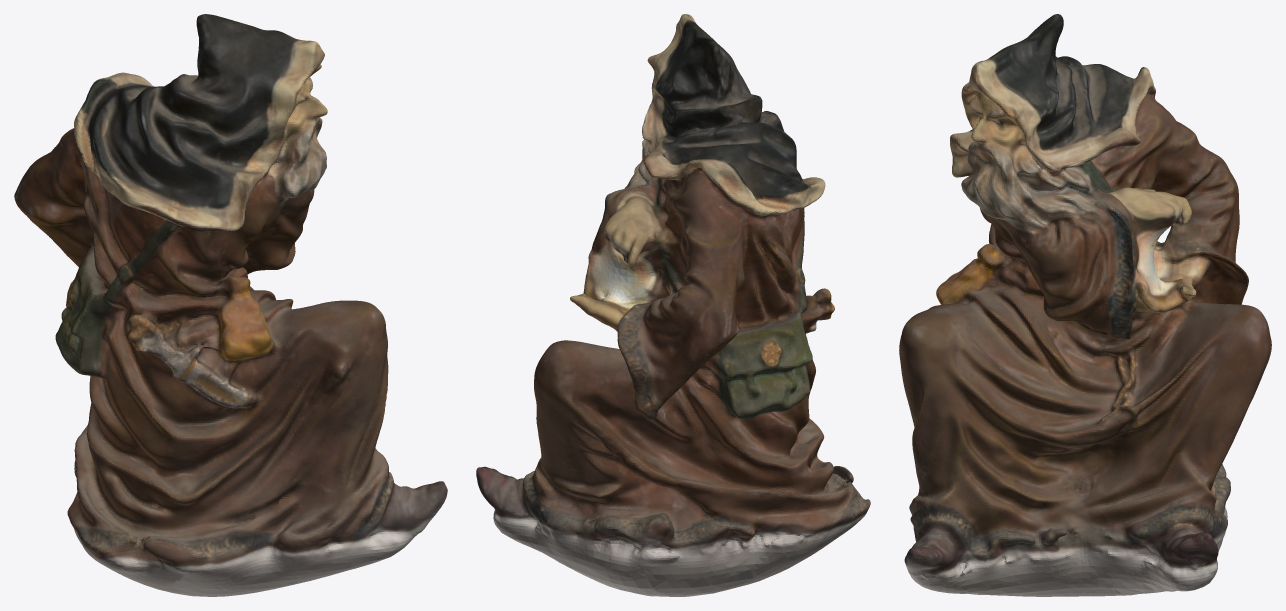
The model's file is Wizard.glb.
3 renders of one model, left to right at view 1: azimuth 30°, elevation 25°; view 2: azimuth 150°, elevation 25°; view 3: azimuth 270°, elevation 25°, orthographic. The views are drawn at different scales.
Parts seen in each view (by area): view 1: Sharp fusion 1.002; view 2: Sharp fusion 1.002; view 3: Sharp fusion 1.002.
Boxes of the visible parts, x1=… form: Sharp fusion 1.002: x1=14, y1=14, x2=447, y2=596; Sharp fusion 1.002: x1=476, y1=14, x2=870, y2=596; Sharp fusion 1.002: x1=899, y1=14, x2=1271, y2=596.
Bounding box in the file's own units: 0.8512 × 1.48 × 0.8862.
Materials: 1 (1 with a texture image).
